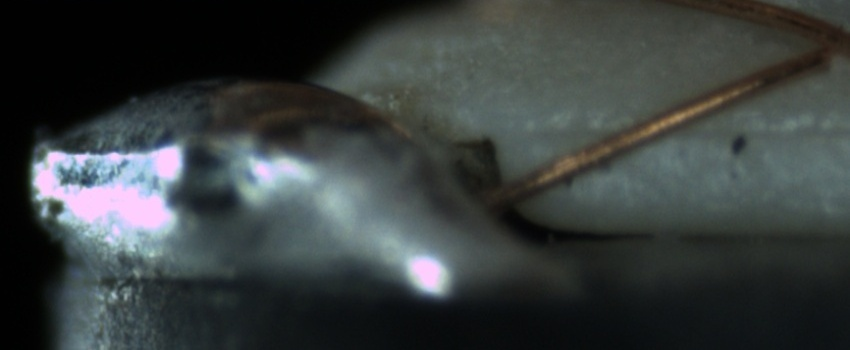CL: (793, 14, 850, 73)
DL: (527, 102, 850, 159)
